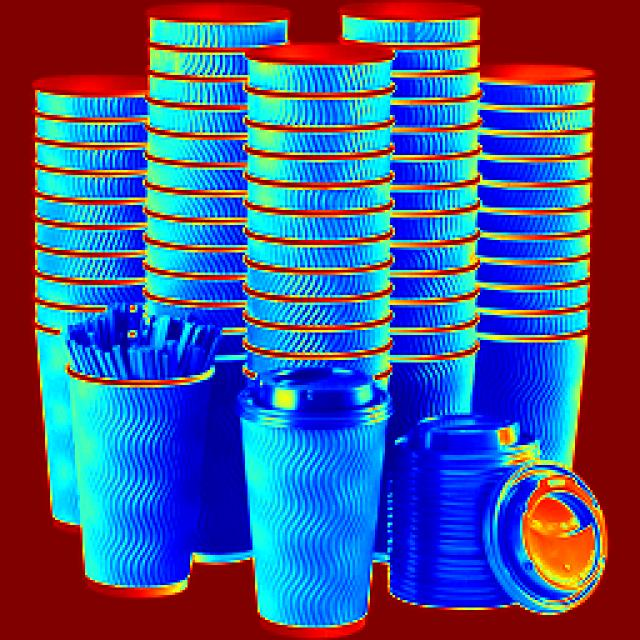Paper Cups: (388, 400, 575, 620), (242, 357, 384, 640), (498, 337, 594, 478), (256, 48, 394, 96), (485, 70, 593, 110), (264, 213, 403, 244), (255, 136, 396, 163), (264, 95, 386, 124), (264, 242, 390, 270), (486, 107, 590, 136), (271, 186, 402, 208), (256, 274, 370, 298), (497, 184, 598, 210), (272, 166, 368, 192), (480, 237, 604, 257), (270, 330, 368, 353), (496, 140, 593, 162), (494, 265, 598, 285), (473, 316, 603, 332), (498, 213, 586, 233), (497, 292, 593, 310), (282, 306, 374, 323), (492, 168, 598, 180)
